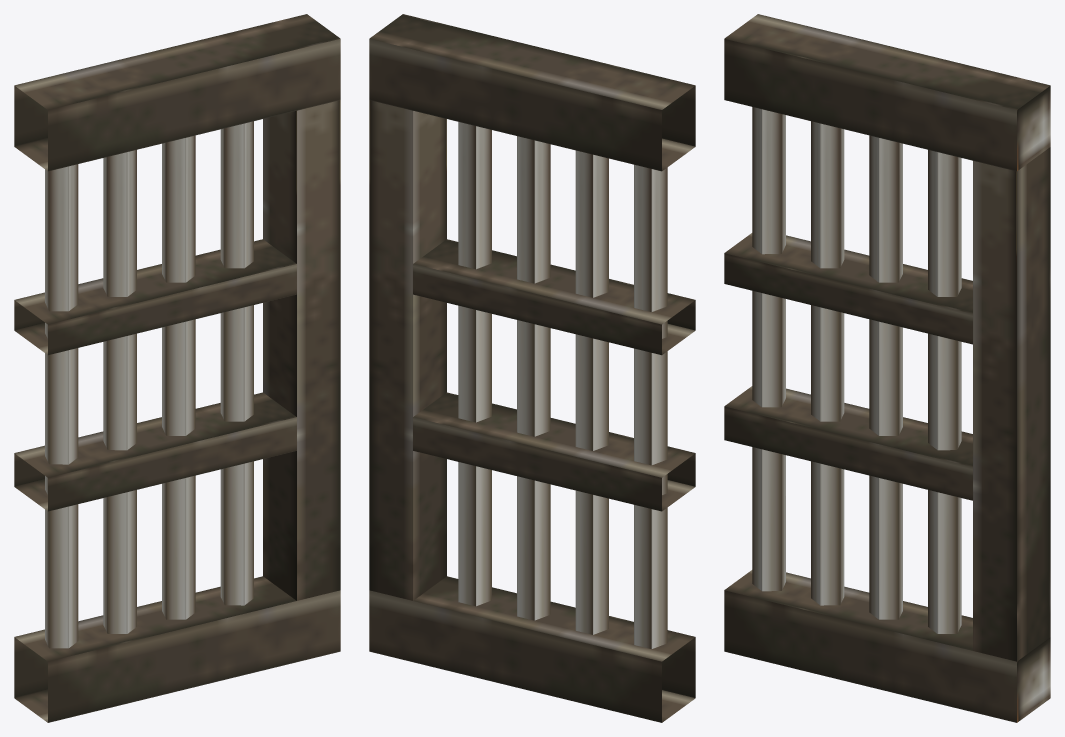
The model's file is Inside_Poly_Cell_Right.obj.
3 renders of one model, left to right at view 1: azimuth 30°, elevation 25°; view 2: azimuth 150°, elevation 25°; view 3: azimuth 330°, elevation 25°, orthographic.
Visible parts, largest first — view 1: Cube_Cube.001; view 2: Cube_Cube.001; view 3: Cube_Cube.001.
Part boxes in pixels (x1=…): Cube_Cube.001: x1=14, y1=14, x2=340, y2=722; Cube_Cube.001: x1=369, y1=14, x2=695, y2=722; Cube_Cube.001: x1=724, y1=14, x2=1050, y2=722.
Size of the model in its own units: 1 by 2 by 0.2.
Materials: 1 (1 with a texture image).
